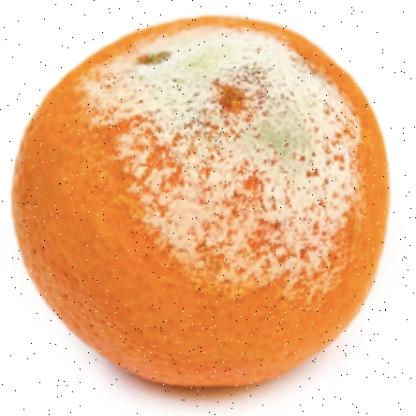rotten: (11, 16, 358, 381)
